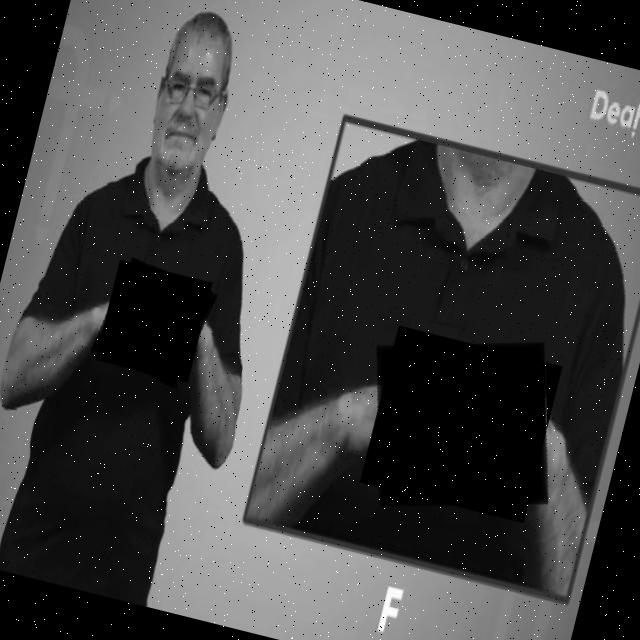F: (350, 316, 575, 537), (92, 258, 218, 389)
